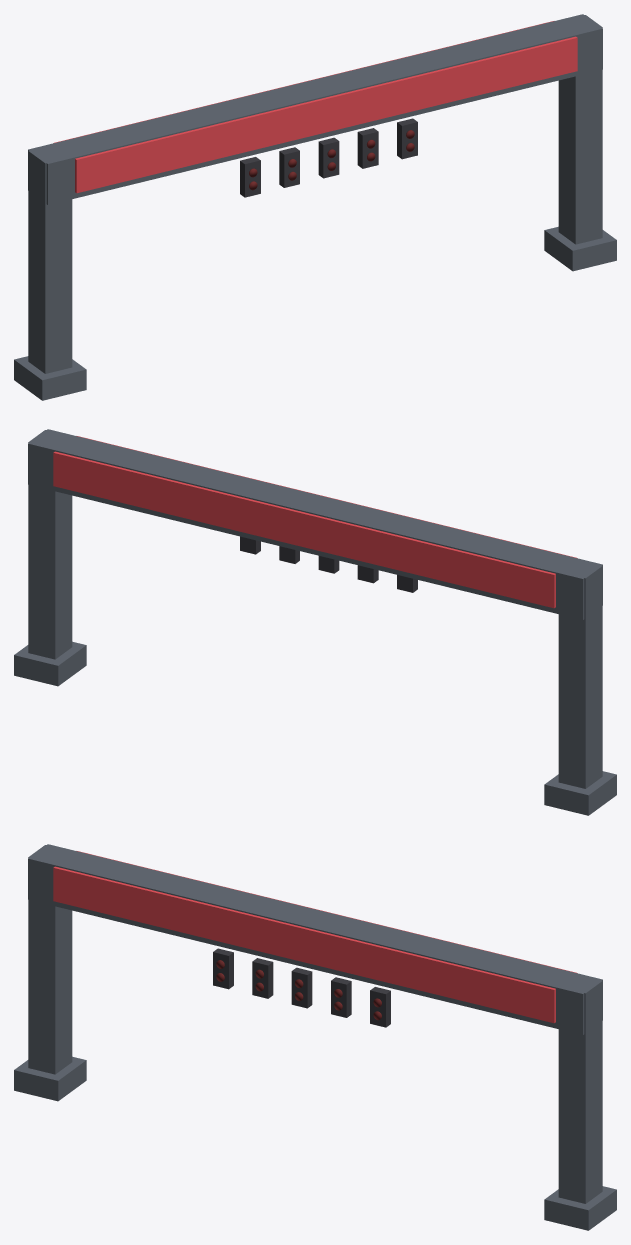
The model's file is start_gantry.glb.
The picture shows the model from 3 angles, top to bottom: view 1: azimuth 30°, elevation 25°; view 2: azimuth 150°, elevation 25°; view 3: azimuth 330°, elevation 25°; orthographic projection.
Visible parts, largest first — view 1: BannerFront, Bridge, Tower_-1, Tower_1, TowerBase_1, TowerBase_-1, StartPod_2, StartPod_3, StartPod_1, StartPod_4, StartPod_0; view 2: BannerBack, Bridge, Tower_-1, Tower_1, TowerBase_1, TowerBase_-1; view 3: BannerFront, Bridge, Tower_1, Tower_-1, TowerBase_-1, TowerBase_1, StartPod_2, StartPod_1, StartPod_0, StartPod_3, StartPod_4.
Part boxes in pixels (x1,y1,x2,y2): BannerFront: (75, 36, 577, 193); Bridge: (28, 14, 602, 204); Tower_-1: (28, 144, 72, 373); Tower_1: (558, 15, 602, 244); TowerBase_1: (544, 226, 616, 271); TowerBase_-1: (14, 356, 86, 400); StartPod_2: (318, 137, 339, 178); StartPod_3: (357, 128, 378, 168); StartPod_1: (279, 147, 299, 187); StartPod_4: (397, 118, 417, 159); StartPod_0: (240, 157, 260, 197); BannerBack: (53, 451, 555, 608); Bridge: (28, 429, 602, 619); Tower_-1: (558, 560, 602, 788); Tower_1: (28, 430, 72, 659); TowerBase_1: (14, 641, 86, 686); TowerBase_-1: (544, 771, 616, 815); BannerFront: (53, 866, 555, 1023); Bridge: (28, 844, 602, 1034); Tower_1: (558, 974, 602, 1203); Tower_-1: (28, 845, 72, 1074); TowerBase_-1: (14, 1056, 86, 1101); TowerBase_1: (544, 1186, 616, 1230); StartPod_2: (291, 967, 312, 1008); StartPod_1: (252, 958, 273, 998); StartPod_0: (213, 948, 233, 989); StartPod_3: (331, 977, 351, 1017); StartPod_4: (370, 987, 390, 1027).
Bounding box in the file's own units: 23.4 × 9 × 2.18.
